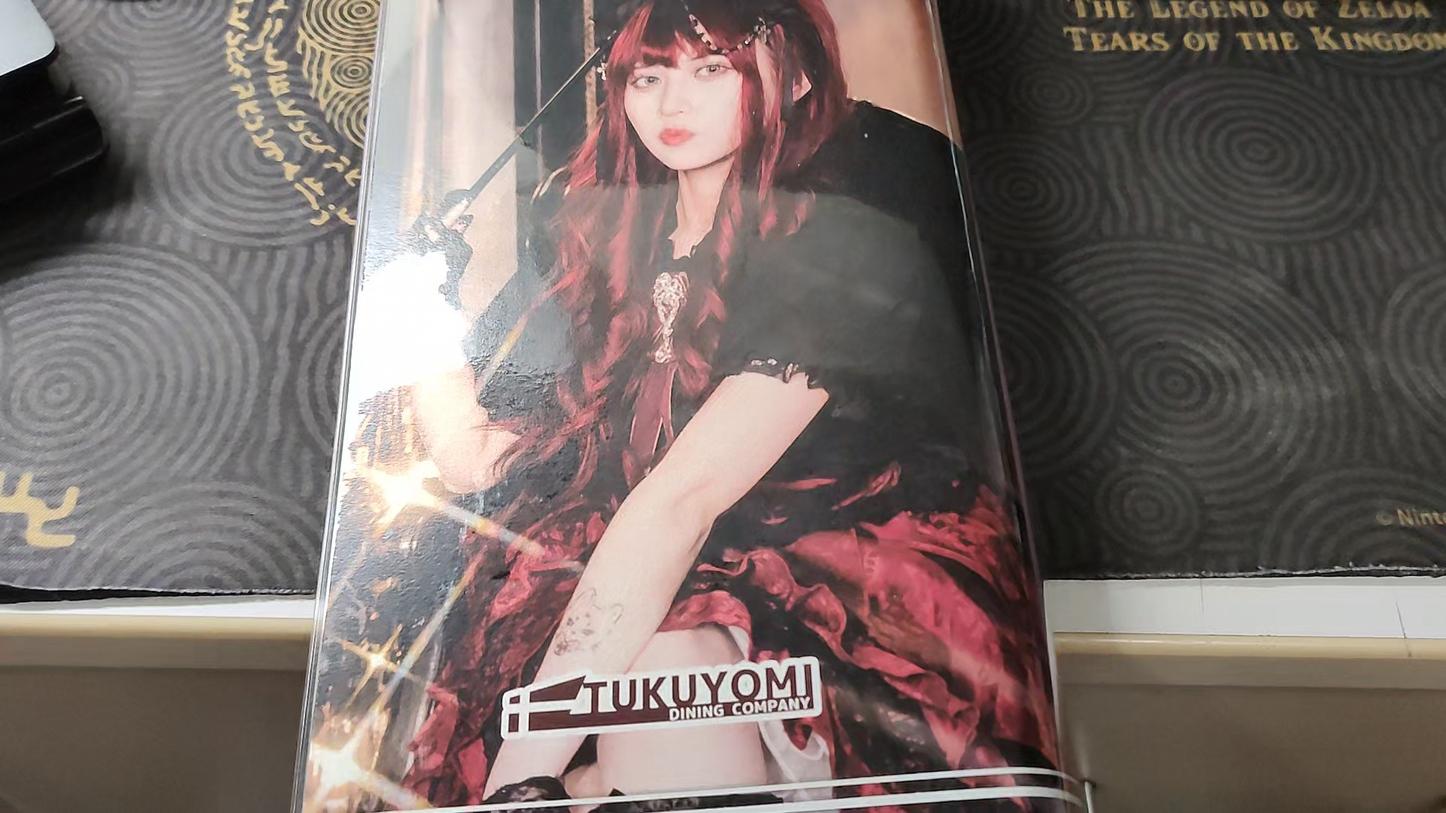Photo_book: (287, 0, 1086, 813)
